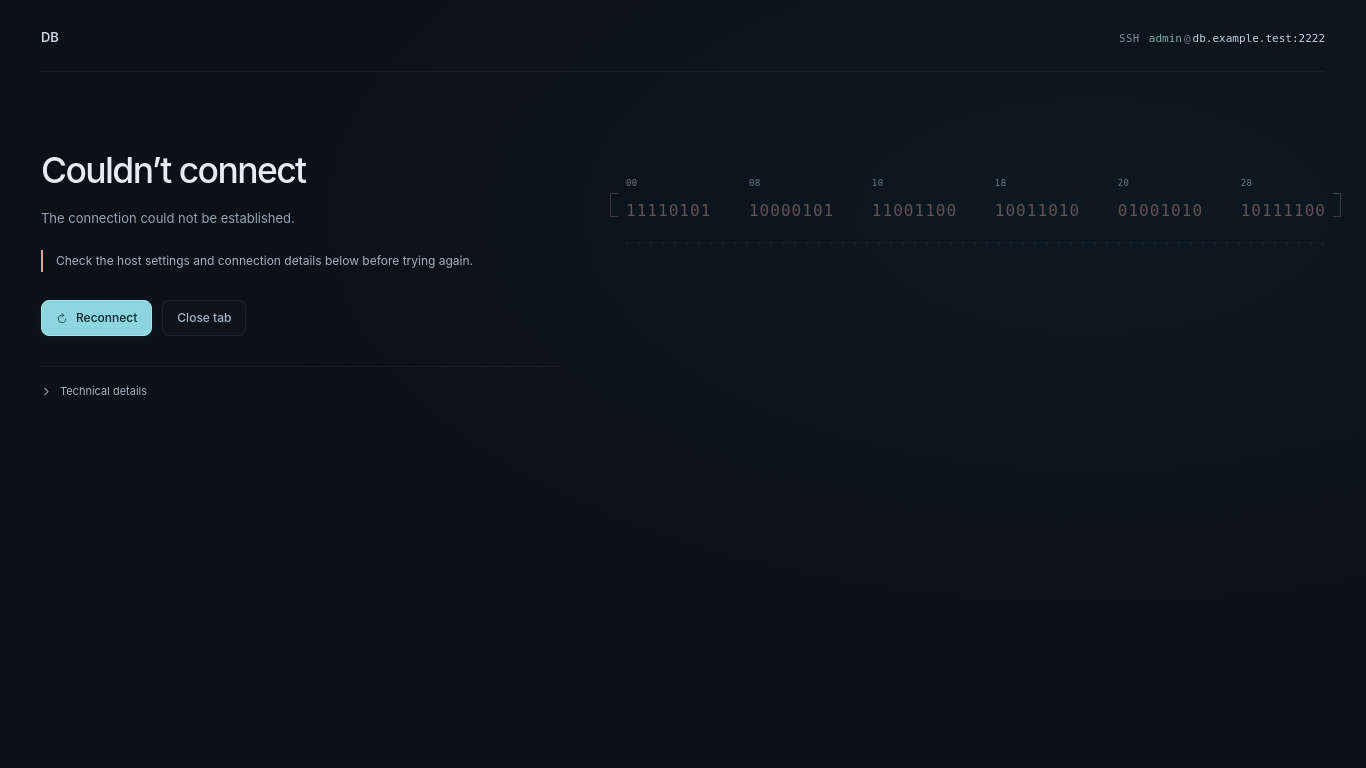
Test: connection status panel › retains full errors and copies details only on request
Later steps or results of the test are not shown.
Step 1. Click the heading "Technical details" → (94,391), box top-left (41, 383), bottom-right (147, 400)
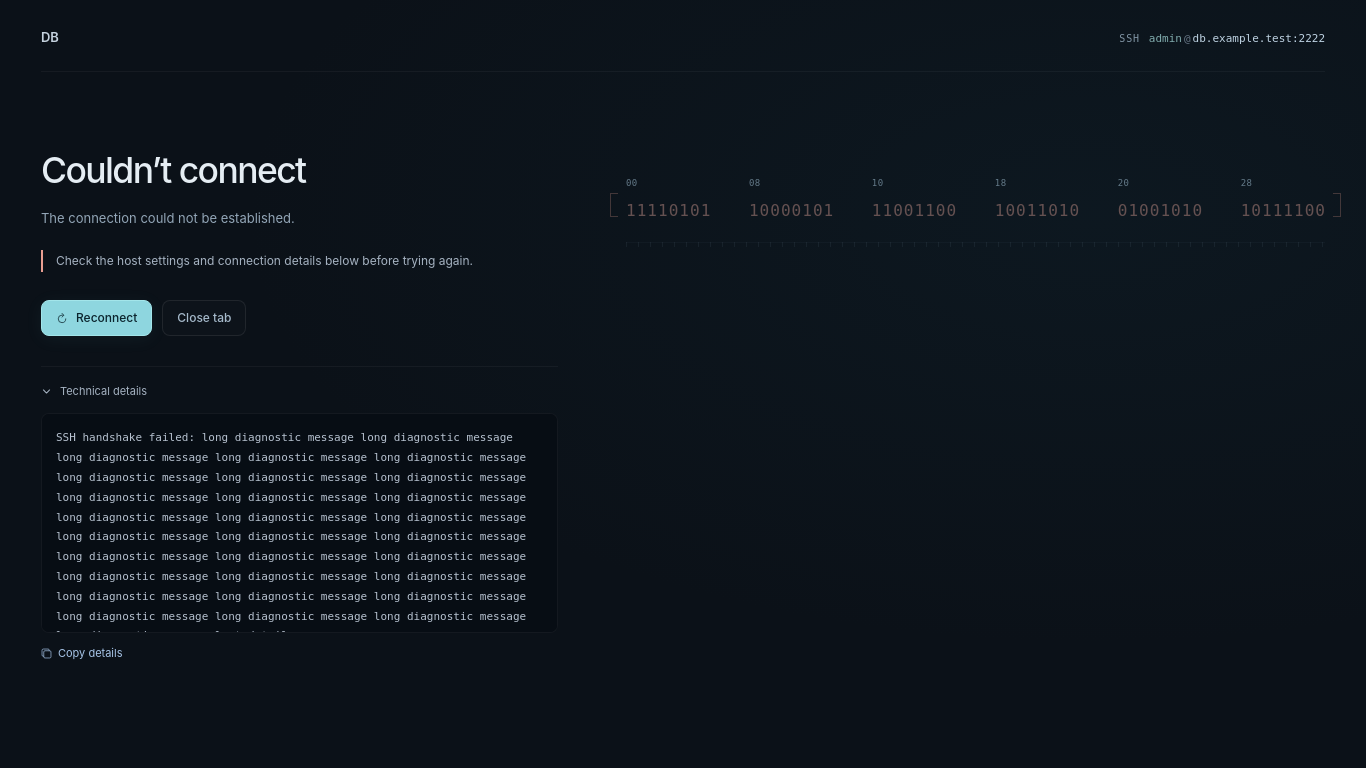
Step 2. Click the button "Copy details" → (82,654), box top-left (41, 646), bottom-right (122, 662)
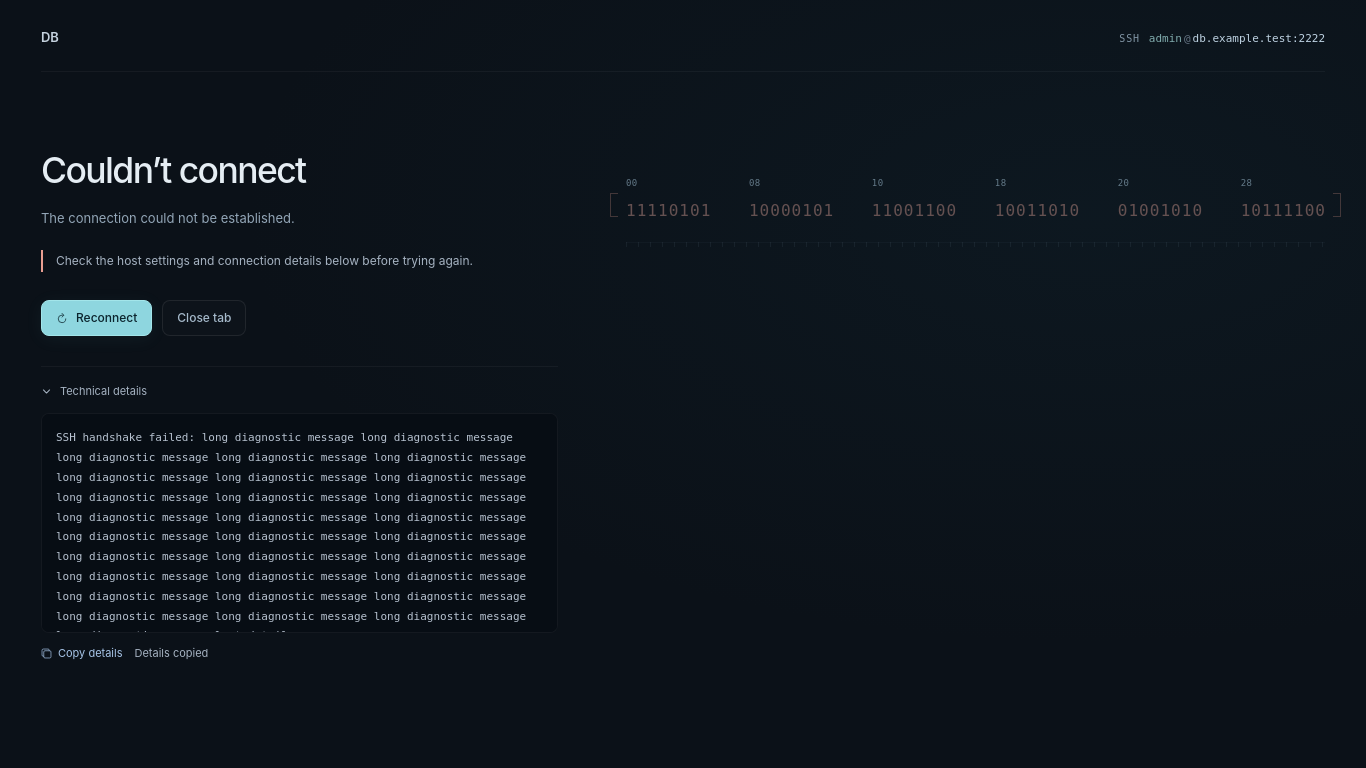
Expected: the text "Details copied" is shown, top-left (134, 646), bottom-right (208, 662)
